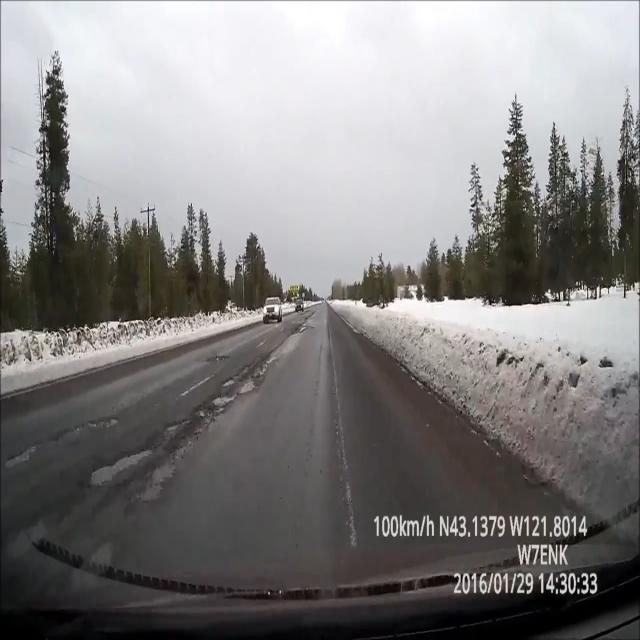Pothole: (202, 355, 273, 409), (84, 443, 154, 488), (0, 422, 49, 479), (160, 415, 207, 443), (60, 416, 121, 432)
